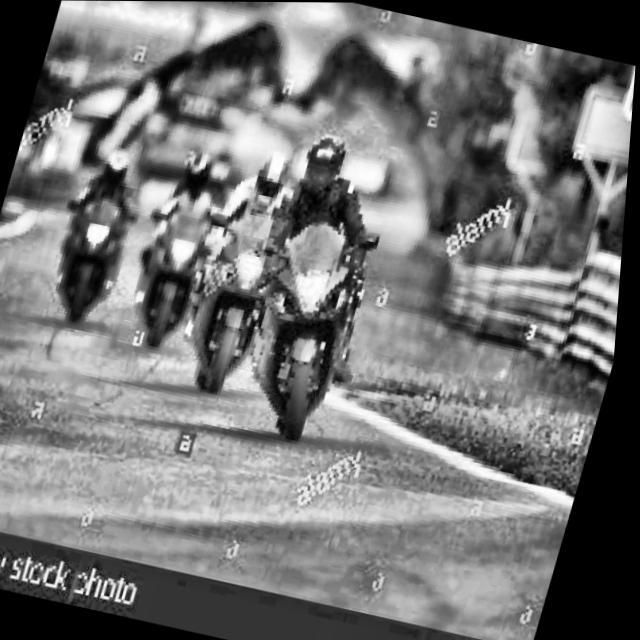motorcycle: (225, 192, 401, 451), (165, 189, 298, 398), (116, 166, 240, 356), (30, 168, 153, 335)
